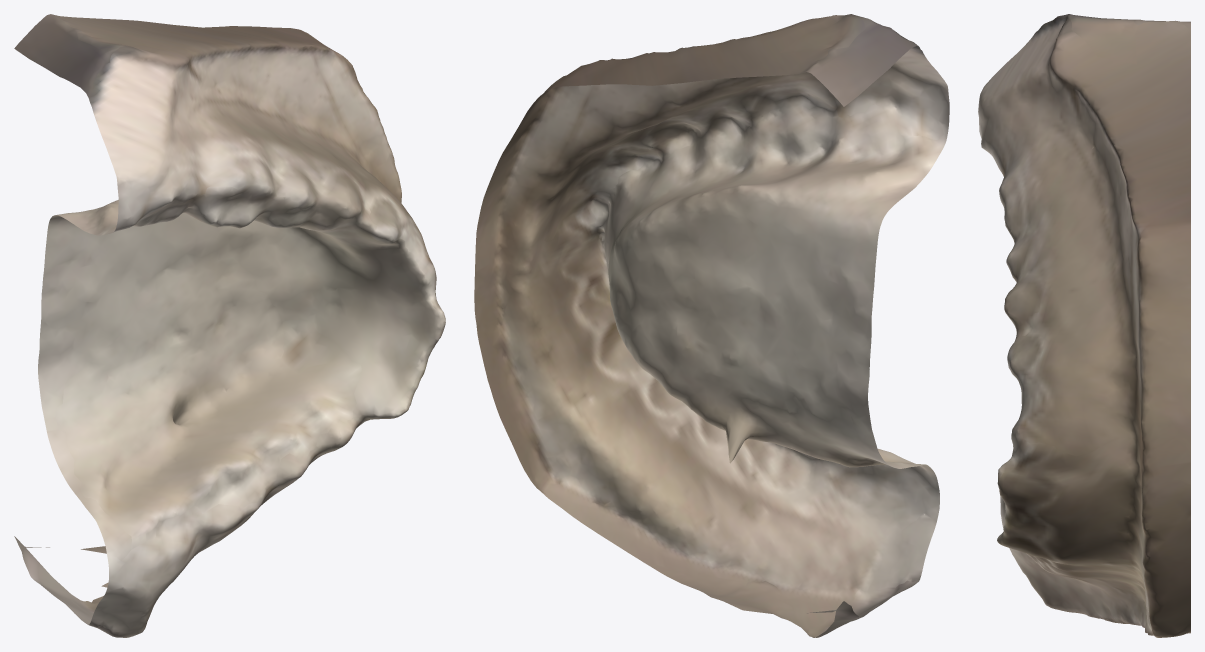
Rendered from M-J-B-Bas.obj.
3 renders of one model, left to right at view 1: azimuth 30°, elevation 25°; view 2: azimuth 150°, elevation 25°; view 3: azimuth 270°, elevation 25°, orthographic.
Size of the model in its own units: 0.0482 by 0.0739 by 0.0242.
1 material, 1 textured.
